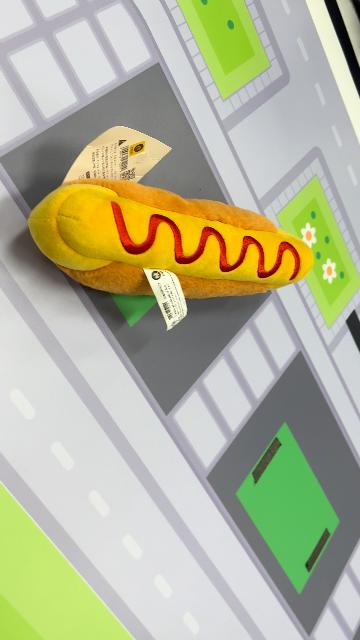hotdog: (27, 176, 315, 302)
